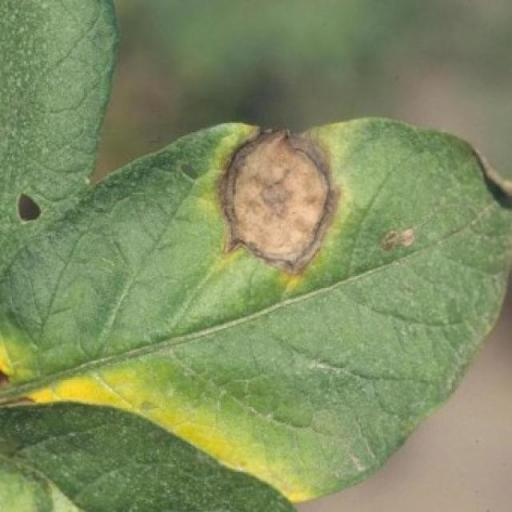Early Blight: (0, 120, 512, 498)
